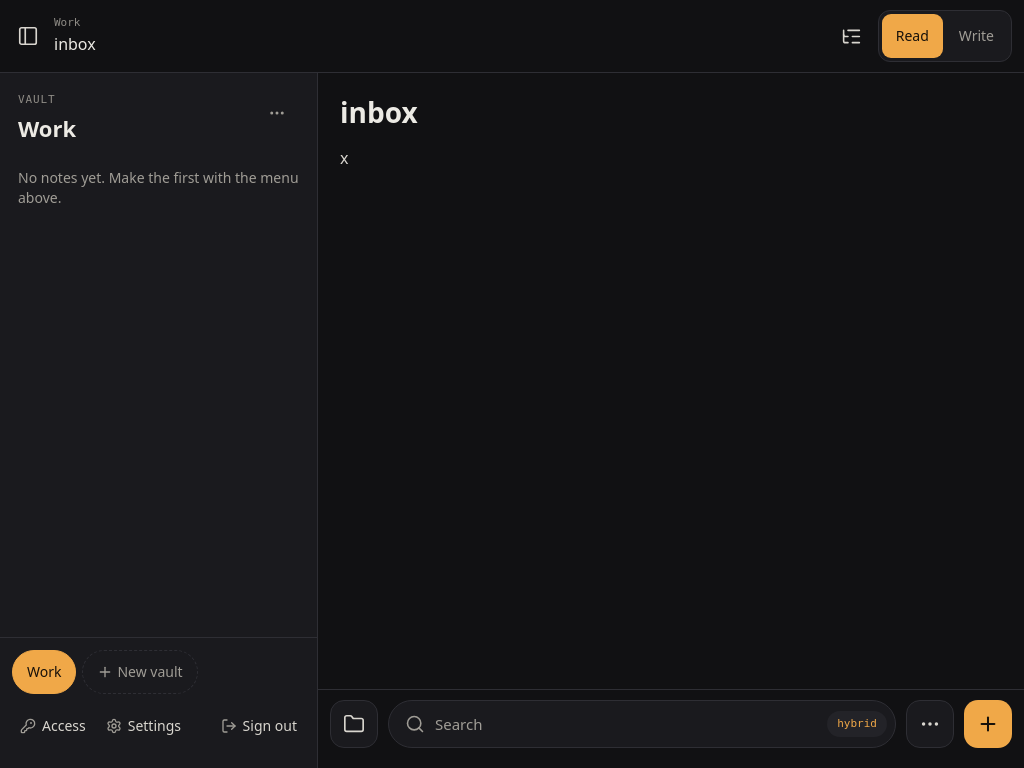
Test case: the search sheet › never shows the results of an older query after a newer one
Click the button "Search hybrid" at (459, 724), box [388, 700, 896, 748]
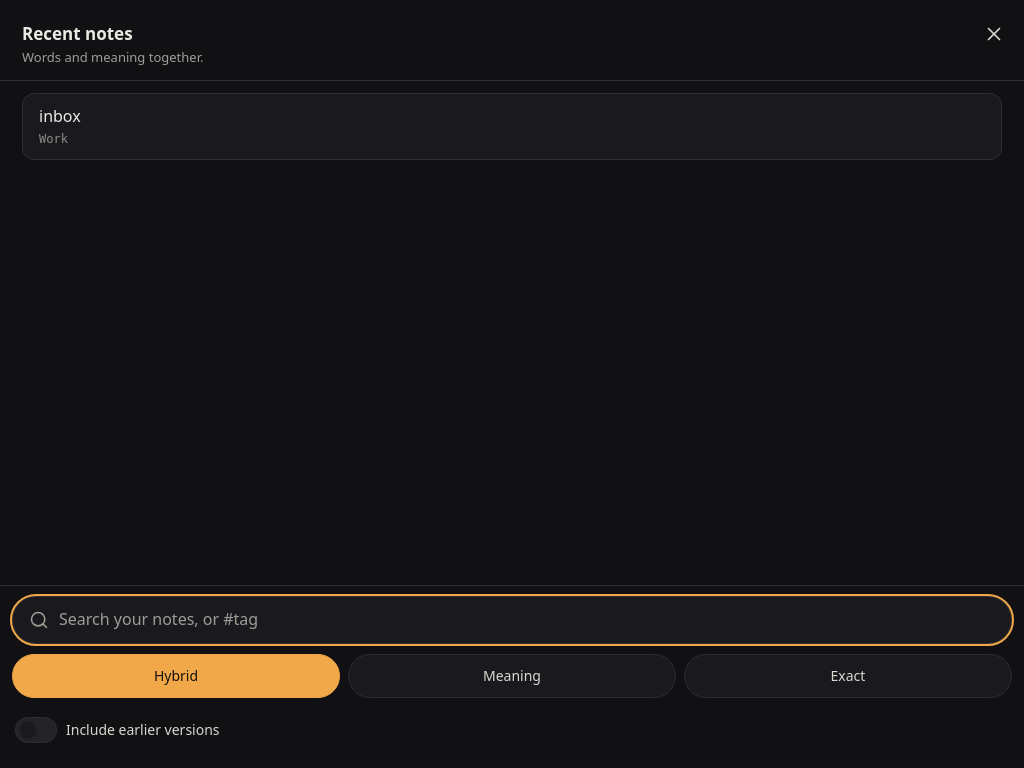
Type "old" into the search field labelled "Search" at (527, 620), box [59, 607, 995, 633]
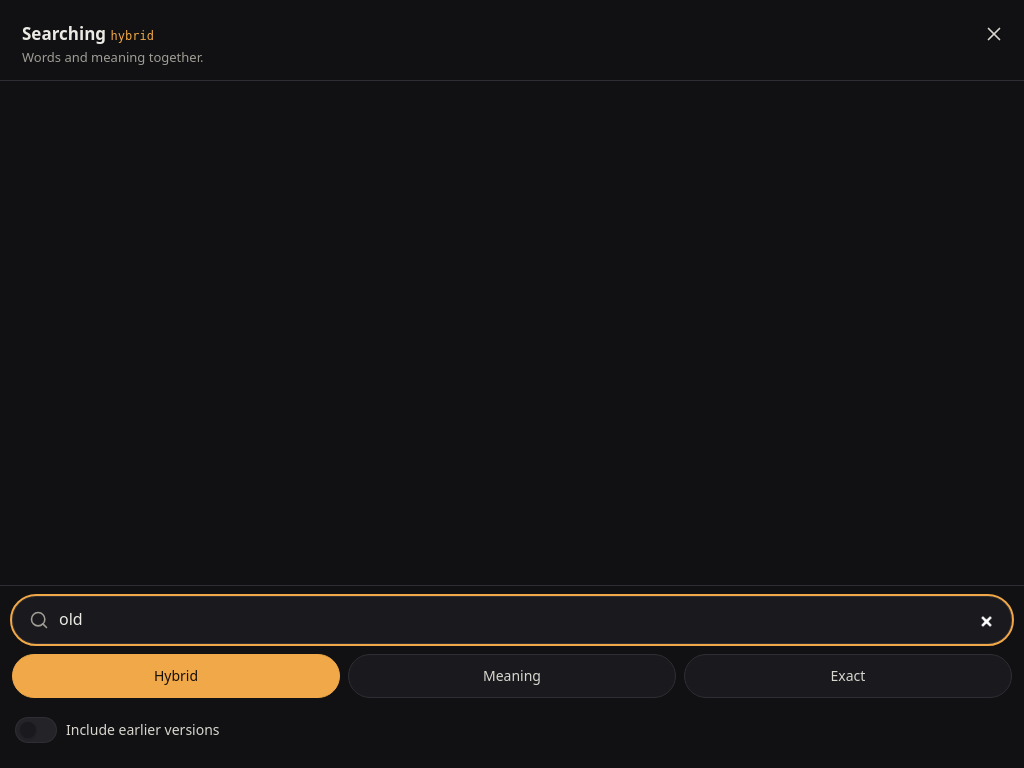
Replace the text in the search field named "Search" with "new" at (527, 620), box [59, 607, 995, 633]
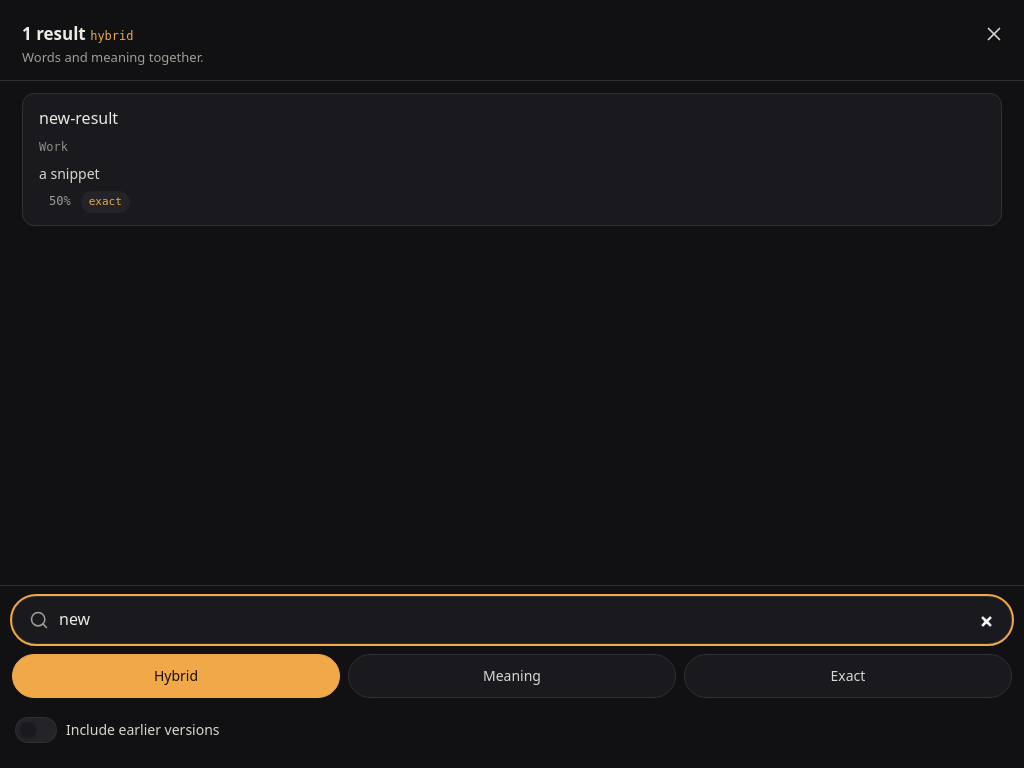
Now the text "new-result" is shown, box [39, 106, 118, 132]
